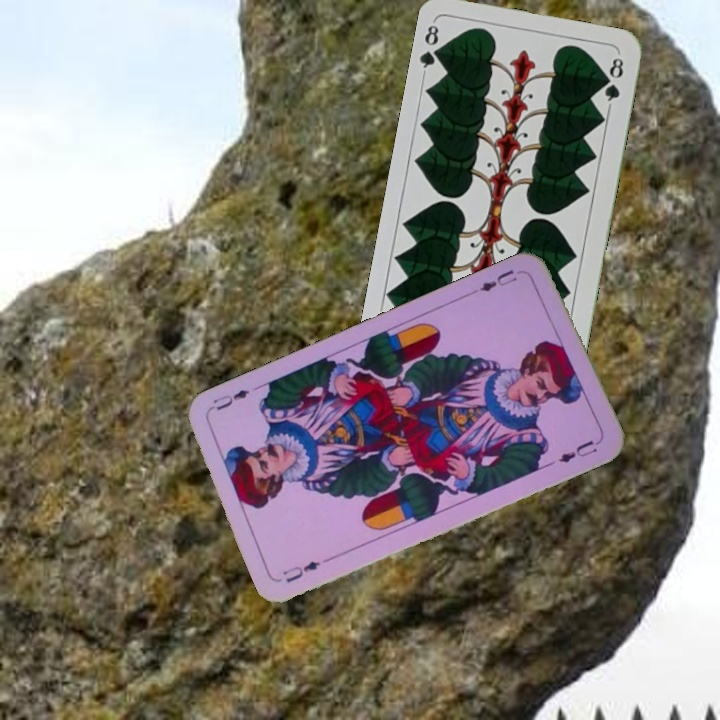EU: (476, 265, 520, 295), (278, 557, 323, 586)
G8: (416, 18, 447, 77)
